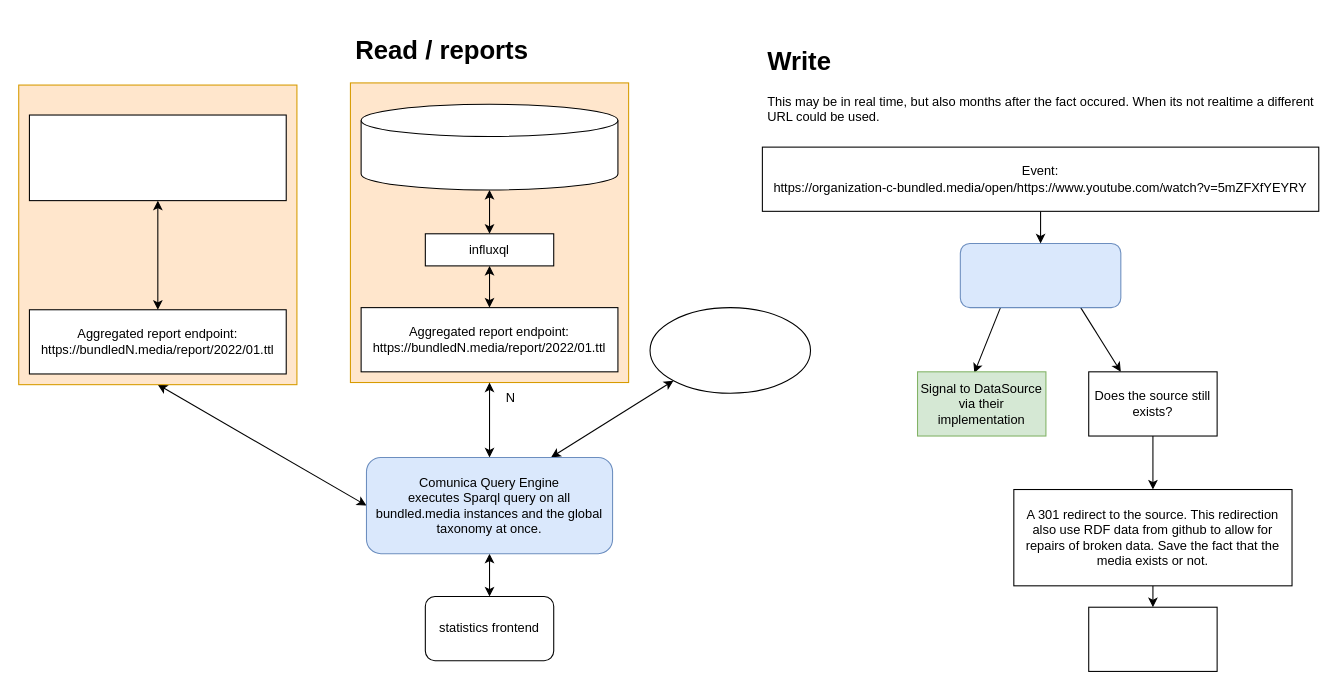
Some shapes in this 1343 by 690 pixel diagram are drawn without their labels. Here are the shapes that lost their labels. From the top down, the box of each, then its label:
(28, 114, 286, 201): Disk cache that save a file per month
(360, 103, 618, 190): influxDB with timeseries data
(959, 242, 1121, 308): bundled.media splits into multiple threads
(649, 307, 811, 393): Global Media Taxonomy
(1088, 606, 1217, 671): Save event into influxdb
